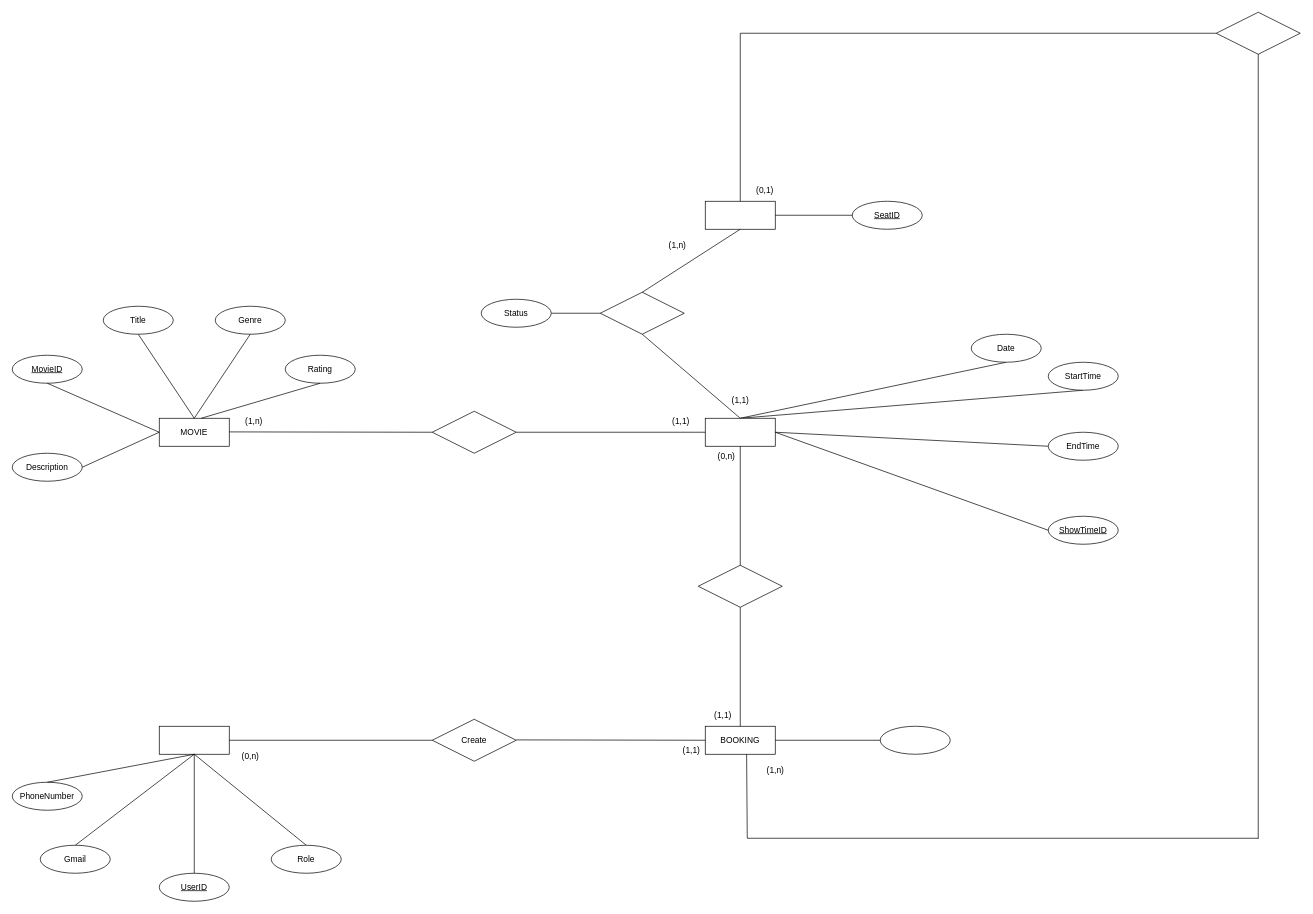
Image size: 1313x914. Some labels were removed from this diagram. Each missing label, with the box of its shape:
ACCOUNT: (159, 726, 229, 754)
BookedSeat: (1216, 12, 1300, 54)
BookingID: (880, 726, 950, 754)
Of: (432, 411, 516, 453)
SEAT: (705, 201, 775, 229)
SeatStatus: (600, 292, 684, 334)
SHOWTIME: (705, 418, 775, 446)
Watch: (698, 565, 782, 607)
